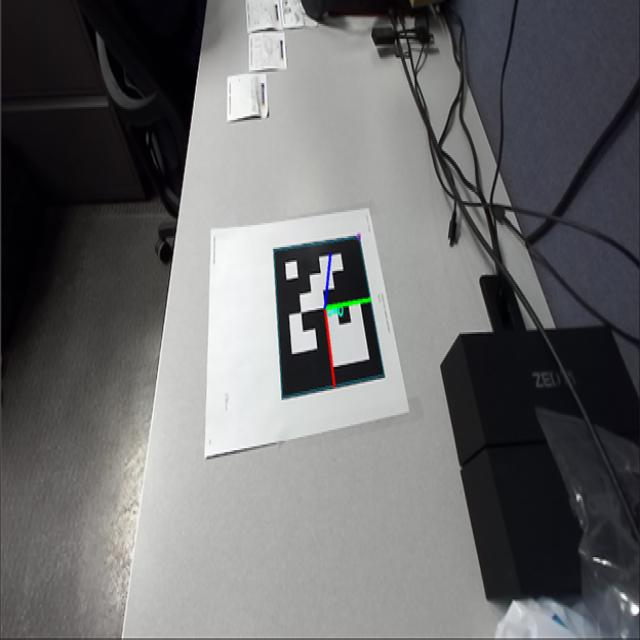aruco: (274, 230, 389, 404)
